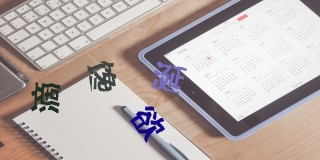欲: (130, 104, 167, 144)
涎: (152, 59, 187, 93)
滴: (31, 80, 63, 114)
馋: (87, 57, 116, 94)
